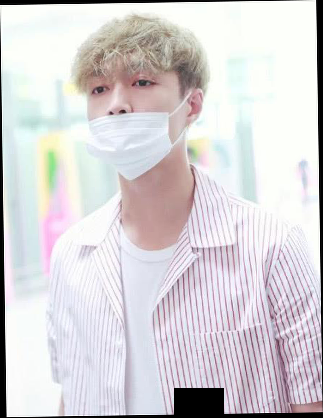mask_weared_incorrect: (82, 72, 183, 183)
